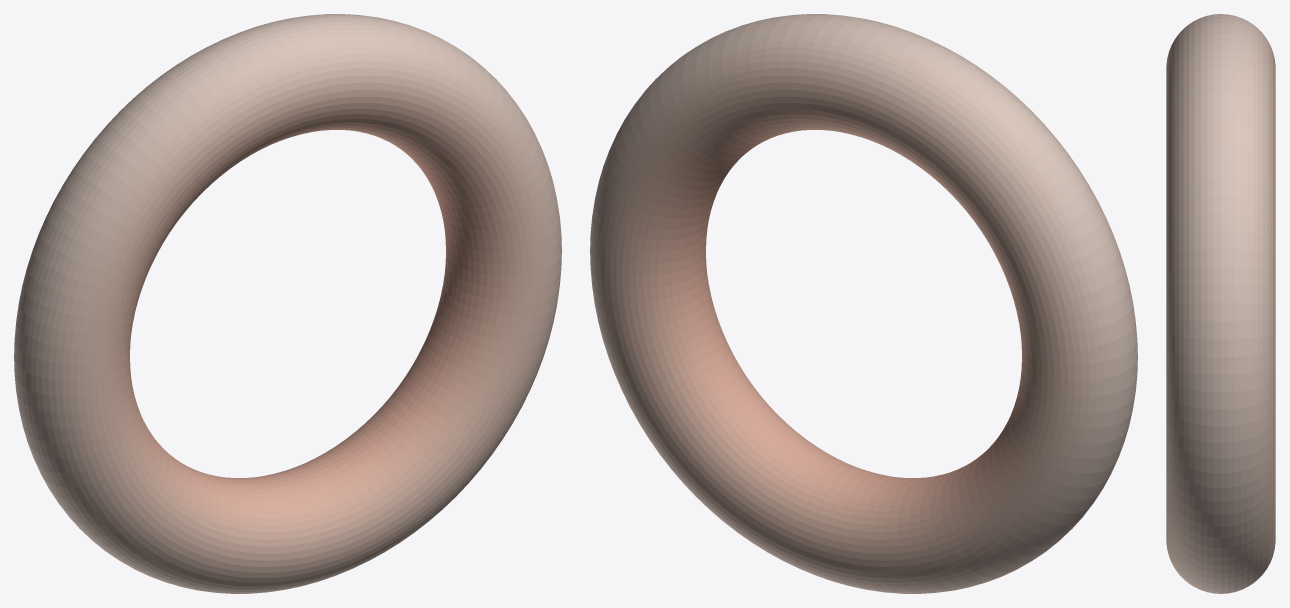
3 renders of one model, left to right at view 1: azimuth 30°, elevation 25°; view 2: azimuth 150°, elevation 25°; view 3: azimuth 270°, elevation 25°, orthographic. The views are drawn at different scales.
Parts seen in each view (by area): view 1: world; view 2: world; view 3: world.
Boxes of the visible parts, box(x1,y1,x2,y2) form: world: box(14, 14, 561, 593); world: box(590, 14, 1137, 593); world: box(1166, 14, 1275, 593).
Bounding box in the file's own units: 30.4 × 30.4 × 5.72.
